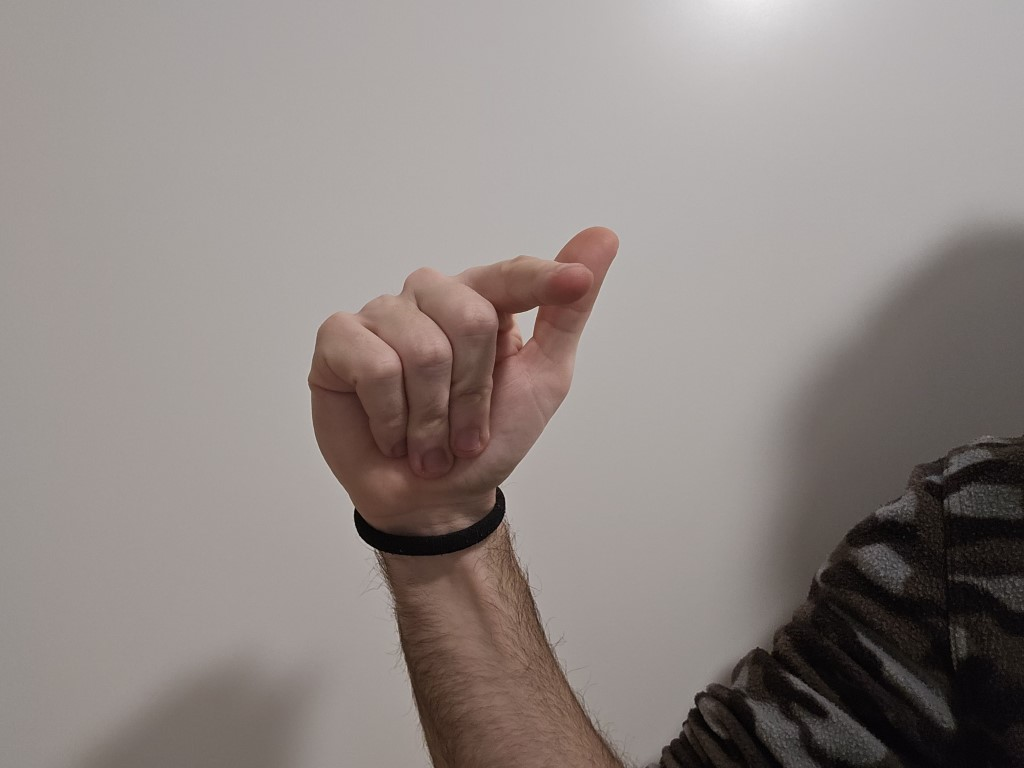t: (259, 195, 647, 505)
